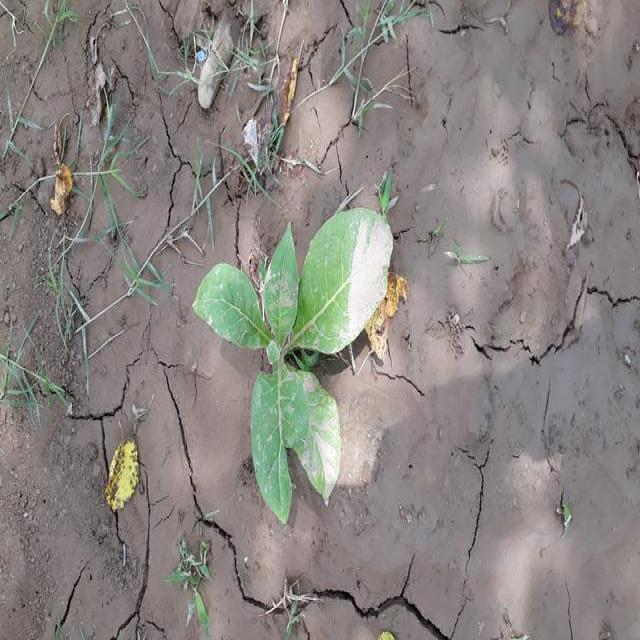crop: (193, 210, 392, 521)
